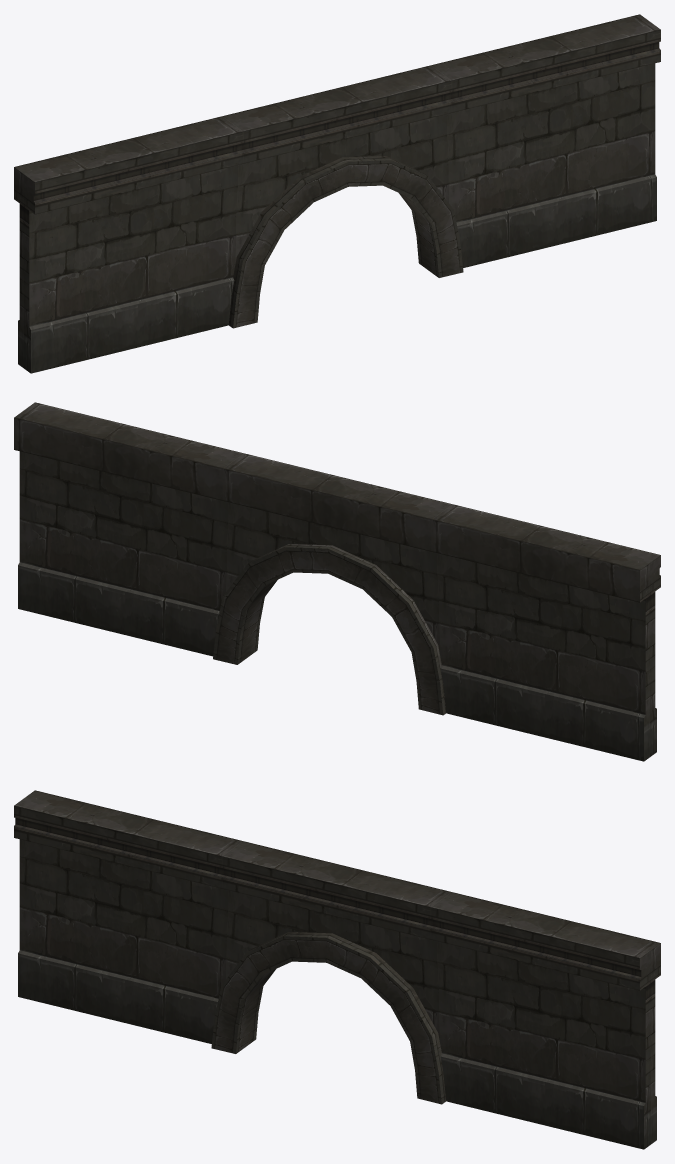
Rendered from sewer_wall002.FBX.
The picture shows the model from 3 angles, top to bottom: view 1: azimuth 30°, elevation 25°; view 2: azimuth 150°, elevation 25°; view 3: azimuth 330°, elevation 25°; orthographic projection.
Parts seen in each view (by area): view 1: sewer_wall002; view 2: sewer_wall002; view 3: sewer_wall002.
Part boxes in pixels (left/top/right/bottom): sewer_wall002: left=14, top=14, right=660, bottom=373; sewer_wall002: left=14, top=402, right=660, bottom=761; sewer_wall002: left=14, top=790, right=660, bottom=1149.
Bounding box in the file's own units: 2002 × 593 × 118.
